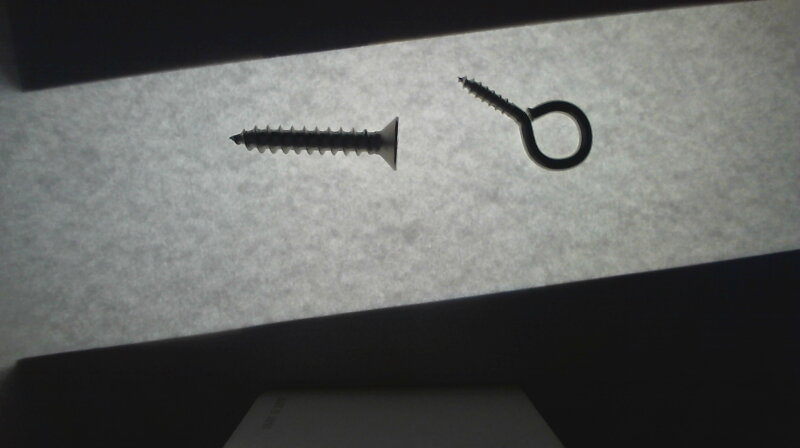O001: (457, 74, 592, 167)
S001: (225, 114, 401, 171)
